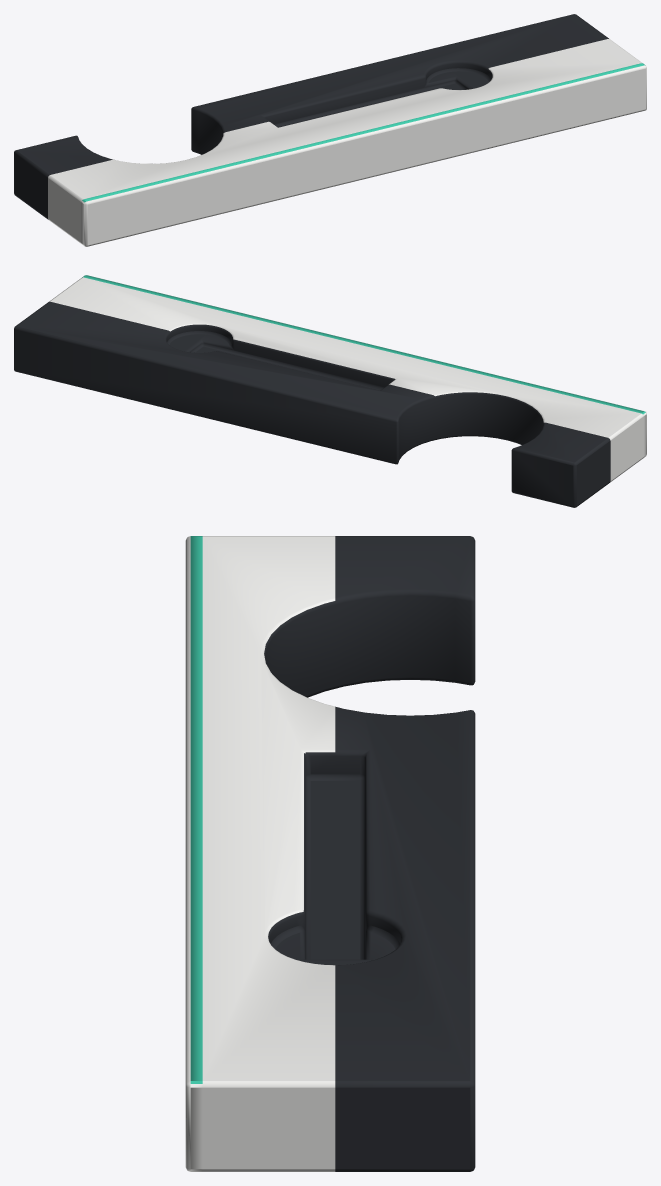
File: body_side_l.obj
The picture shows the model from 3 angles, top to bottom: view 1: azimuth 30°, elevation 25°; view 2: azimuth 150°, elevation 25°; view 3: azimuth 270°, elevation 25°; orthographic projection. The views are drawn at different scales.
Visible parts, largest first — view 1: body_side_l; view 2: body_side_l; view 3: body_side_l.
Part boxes in pixels (bbox=[...]): body_side_l: bbox=[14, 14, 646, 246]; body_side_l: bbox=[14, 275, 646, 507]; body_side_l: bbox=[185, 536, 475, 1171].
Bounding box in the file's own units: 1.3 × 0.1 × 0.29.
